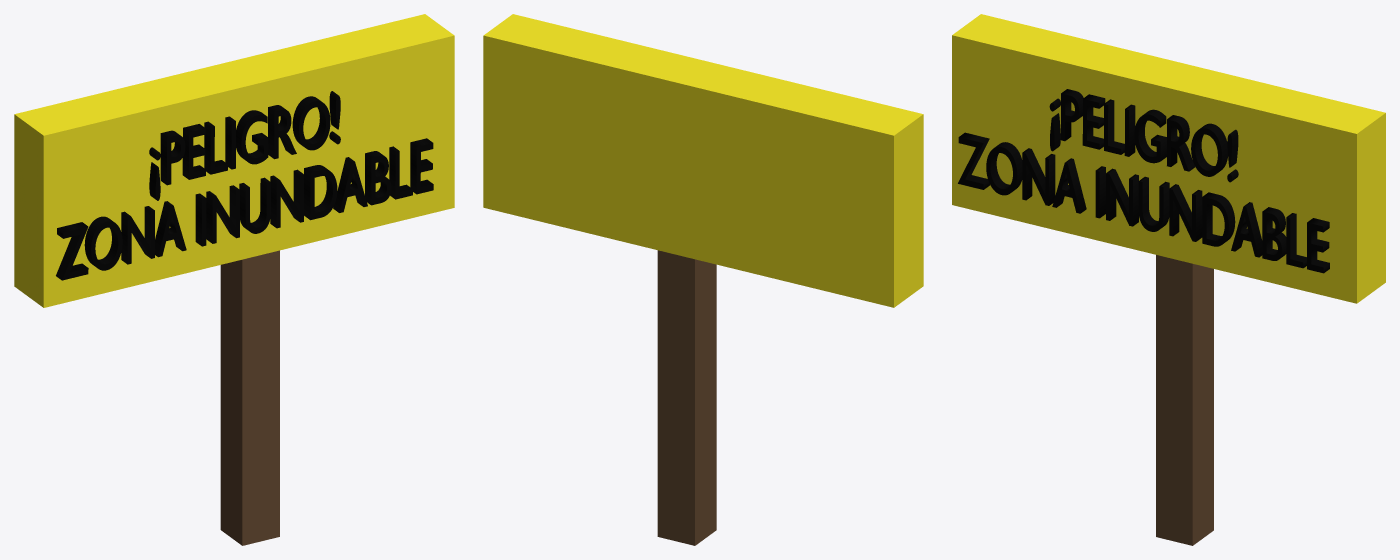
Rendered from Peligro.glb.
3 renders of one model, left to right at view 1: azimuth 30°, elevation 25°; view 2: azimuth 150°, elevation 25°; view 3: azimuth 330°, elevation 25°, orthographic.
Visible parts, largest first — view 1: Cubo.007, Texto.003, Cubo.001; view 2: Cubo.007, Cubo.001; view 3: Cubo.007, Texto.003, Cubo.001.
Part boxes in pixels (x1,y1,x2,y2): Cubo.007: (14, 14, 454, 307); Texto.003: (56, 91, 433, 280); Cubo.001: (220, 250, 279, 545); Cubo.007: (483, 14, 923, 307); Cubo.001: (657, 250, 716, 545); Cubo.007: (952, 14, 1385, 303); Texto.003: (958, 89, 1329, 273); Cubo.001: (1156, 255, 1213, 545).
Bounding box in the file's own units: 3.37 × 3.63 × 0.5081.
